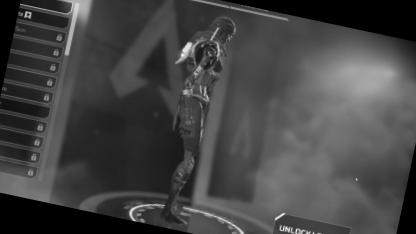Target: (152, 8, 235, 196)
